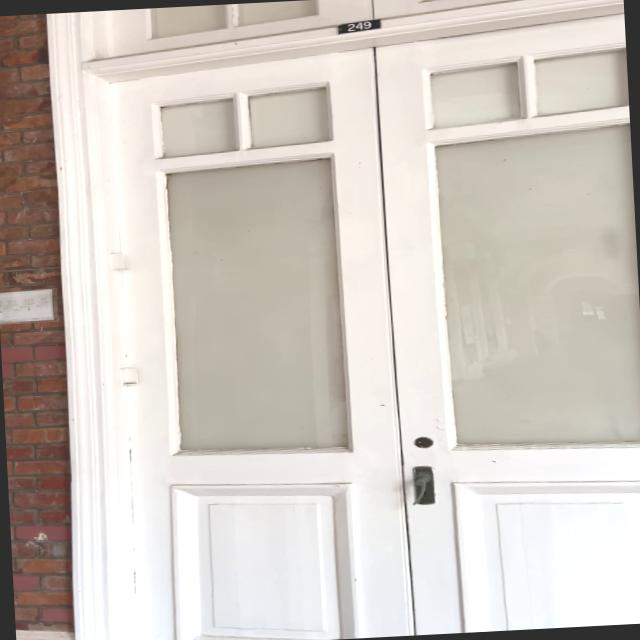room249: (332, 17, 388, 34)
